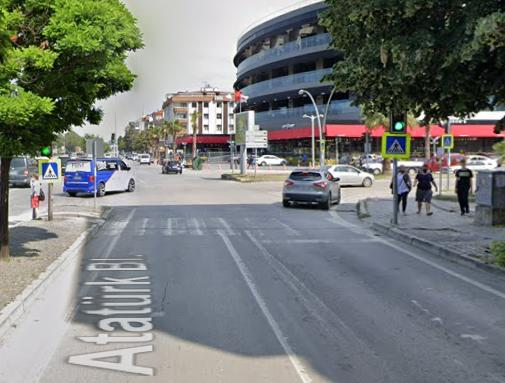greenlight: (391, 96, 407, 134), (41, 132, 52, 157)
